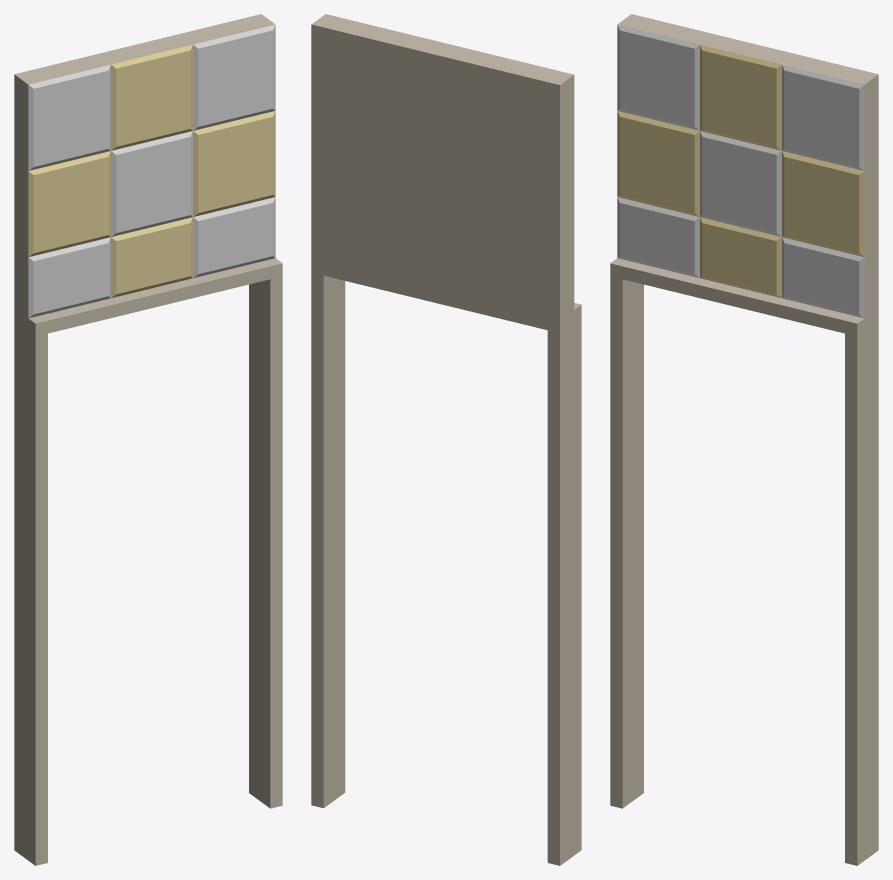
Rendered from Mesh_DoorHoleCeramic_J2.fbx.
The picture shows the model from 3 angles, left to right: view 1: azimuth 30°, elevation 25°; view 2: azimuth 150°, elevation 25°; view 3: azimuth 330°, elevation 25°; orthographic projection.
Parts seen in each view (by area): view 1: Mesh_DoorHoleCeramic_J2; view 2: Mesh_DoorHoleCeramic_J2; view 3: Mesh_DoorHoleCeramic_J2.
Boxes of the visible parts, left/top/right/bottom form: Mesh_DoorHoleCeramic_J2: left=14, top=14, right=282, bottom=865; Mesh_DoorHoleCeramic_J2: left=311, top=14, right=581, bottom=865; Mesh_DoorHoleCeramic_J2: left=610, top=14, right=878, bottom=865.
Size of the model in its own units: 1 by 3 by 0.15.
